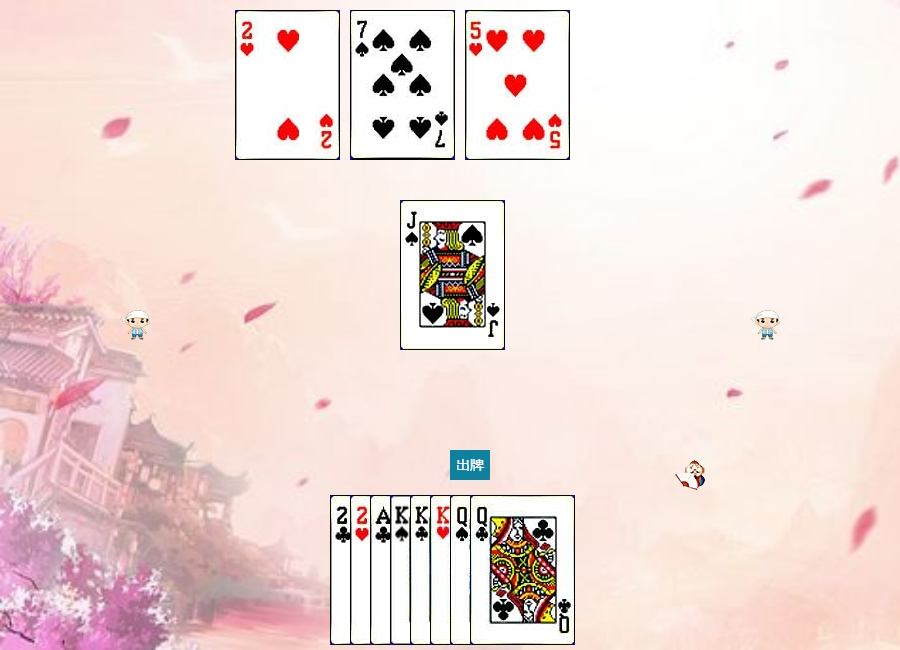11~4: (400, 200, 505, 350)
12~2: (470, 495, 575, 645)
12~4: (450, 495, 555, 645)
13~2: (410, 495, 515, 645)
13~3: (430, 495, 535, 645)
13~4: (390, 495, 495, 645)
14~2: (370, 495, 475, 645)
15~2: (330, 495, 435, 645)
15~3: (235, 10, 340, 160), (350, 495, 455, 645)
5~3: (465, 10, 570, 160)
7~4: (350, 10, 455, 160)
